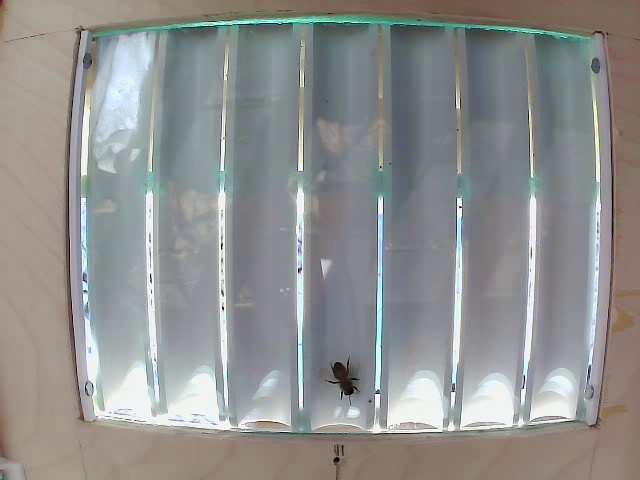bee: (318, 354, 372, 407)
